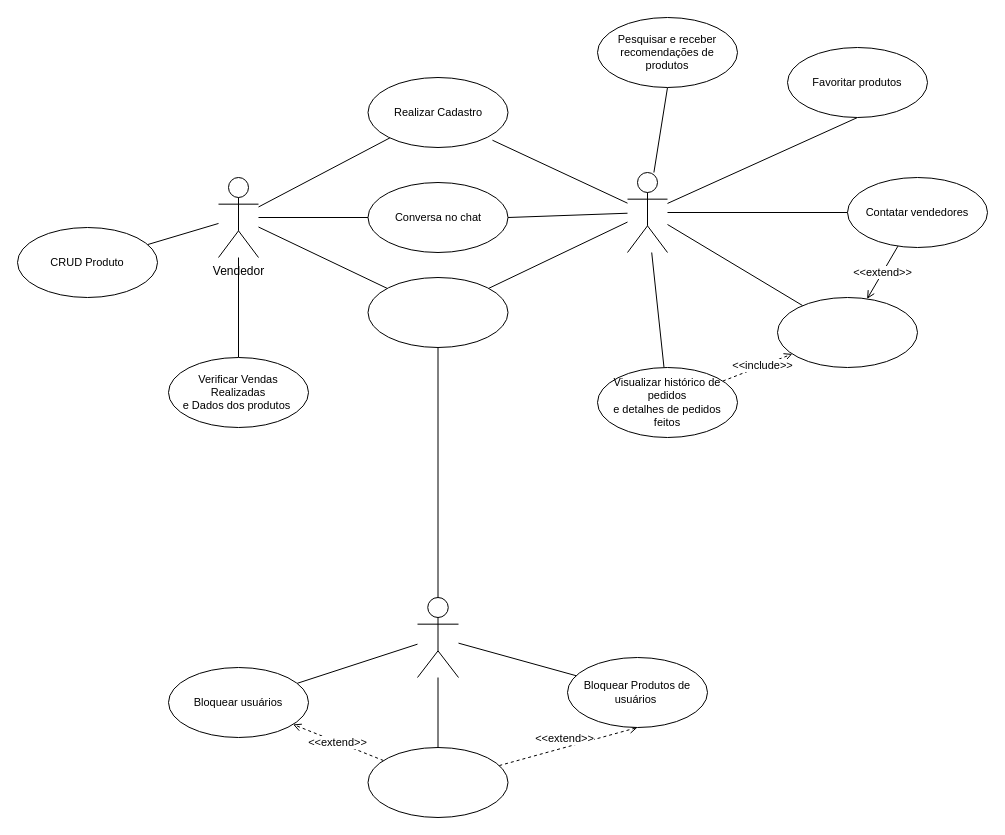
Some shapes in this 1005 by 835 pixel diagram are drawn without their labels. The shapes that lost their labels are listed below. From the top down, each one's box as (x1, y1, x2, y2) in pixels, then its label:
(626, 172, 668, 252): Comprador
(367, 276, 508, 348): Login
(776, 296, 918, 368): Avaliar Vendedor
(416, 596, 458, 678): Administrador
(367, 746, 508, 818): Verificar e Responder solicitações de suporte e denuncias
